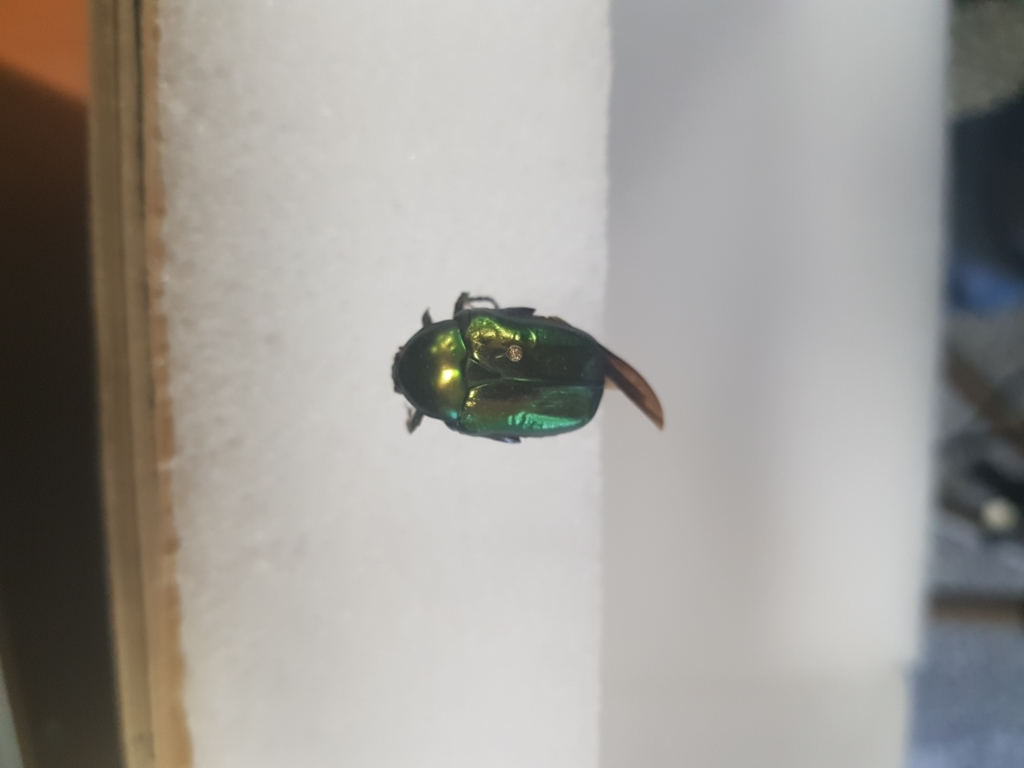Protaetia_angustata_angustata: (379, 281, 681, 452)
